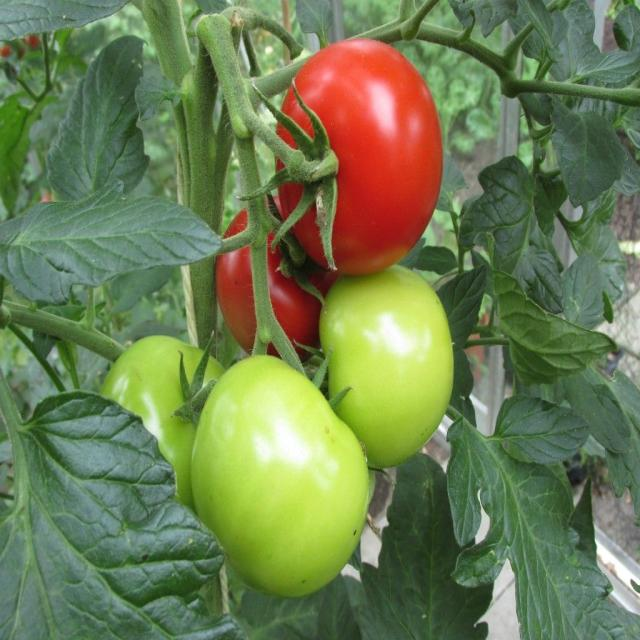level 2: (189, 355, 370, 597), (319, 265, 455, 472), (100, 336, 240, 522)
level 6: (276, 39, 442, 278), (215, 194, 346, 364)
